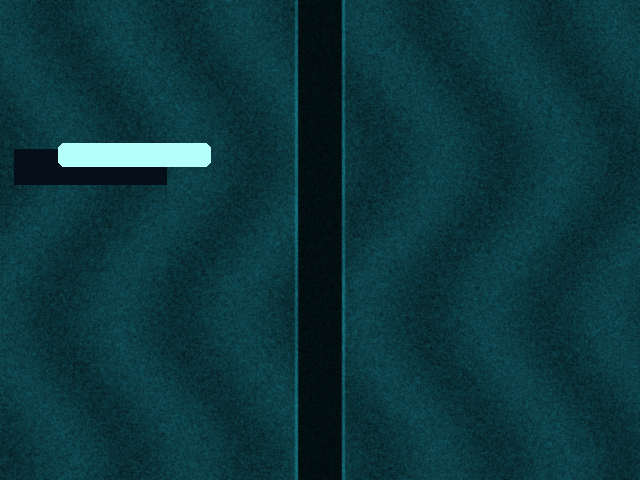Wood Debris: (58, 143, 210, 166)
